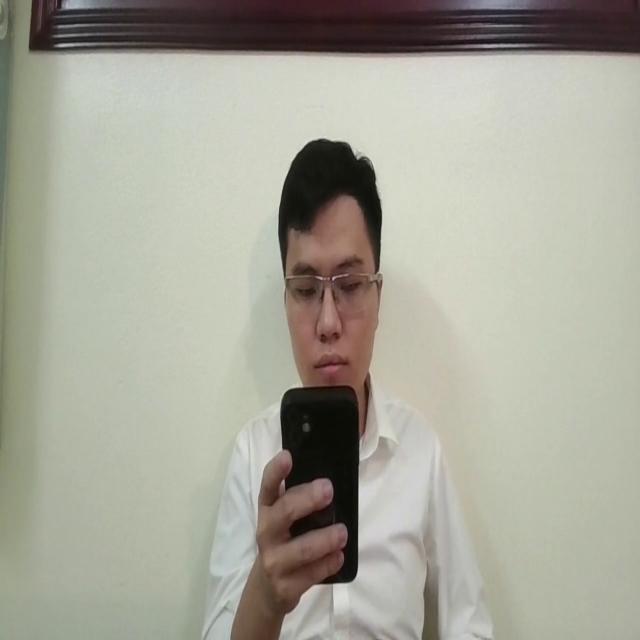phone: (280, 381, 363, 578)
student: (198, 130, 491, 640)
